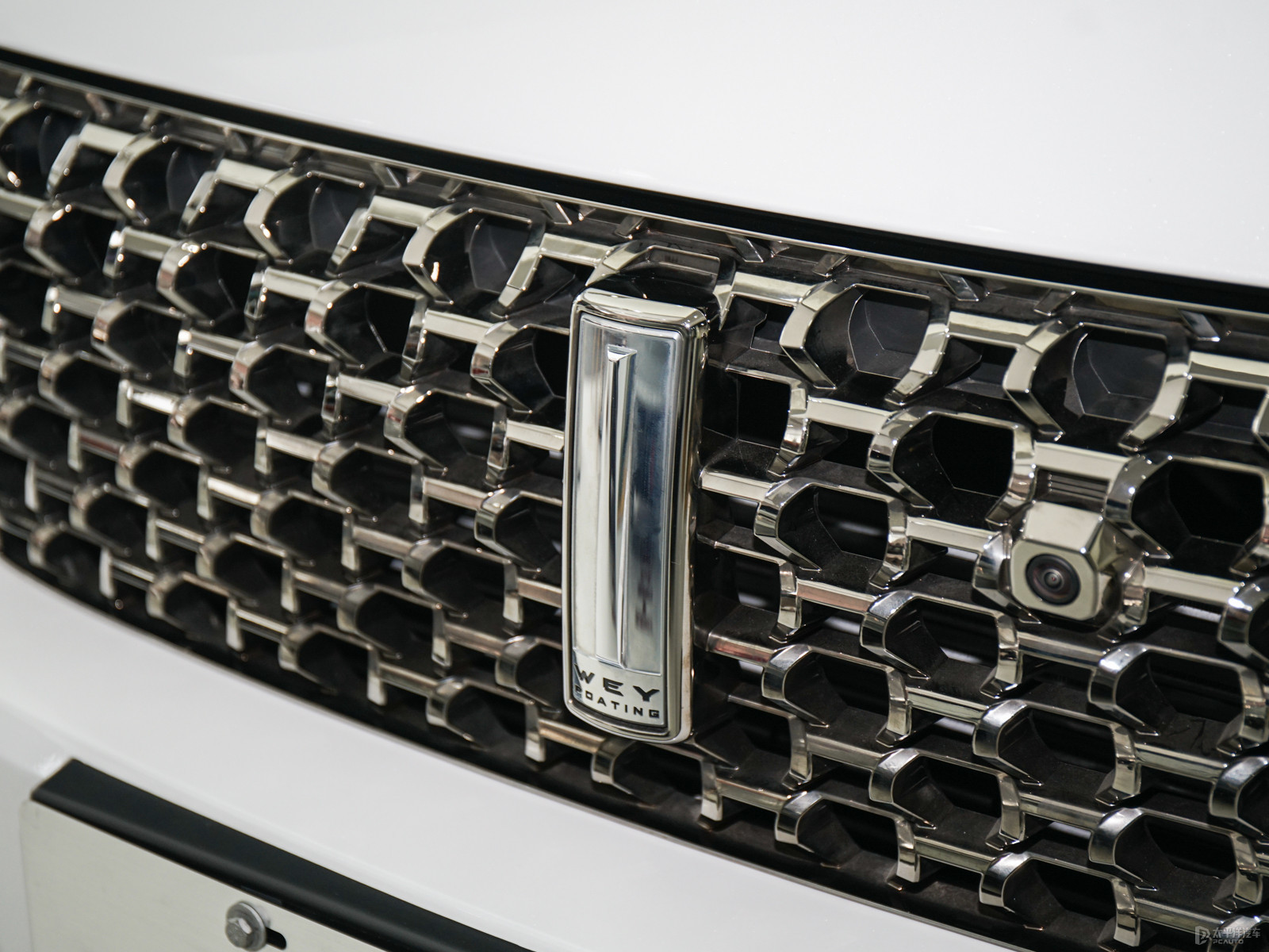WEY: (564, 289, 707, 743)
